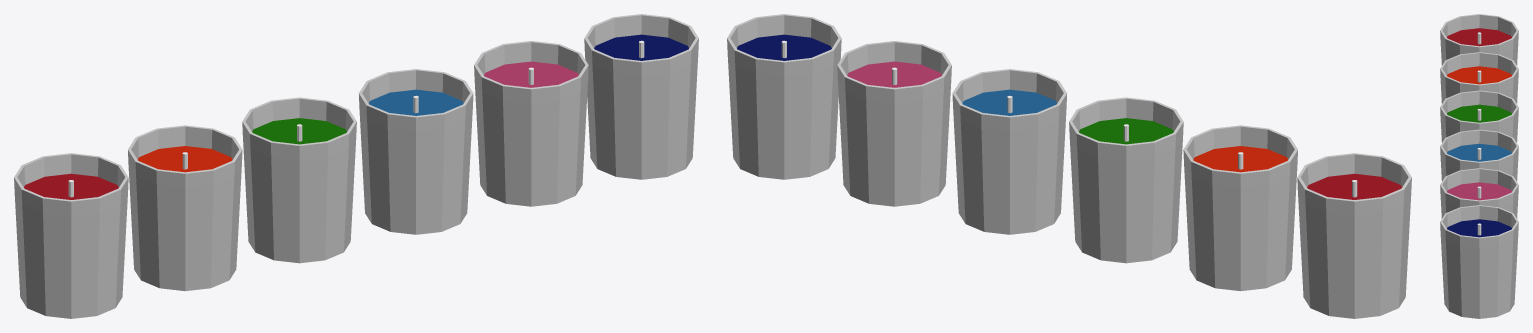
File: scented candles.obj
3 views of the same model, side by side, from view 1: azimuth 30°, elevation 25°; view 2: azimuth 150°, elevation 25°; view 3: azimuth 270°, elevation 25° (orthographic). The views are drawn at different scales.
Bounding box in the file's own units: 12.89 × 2.21 × 1.91.
